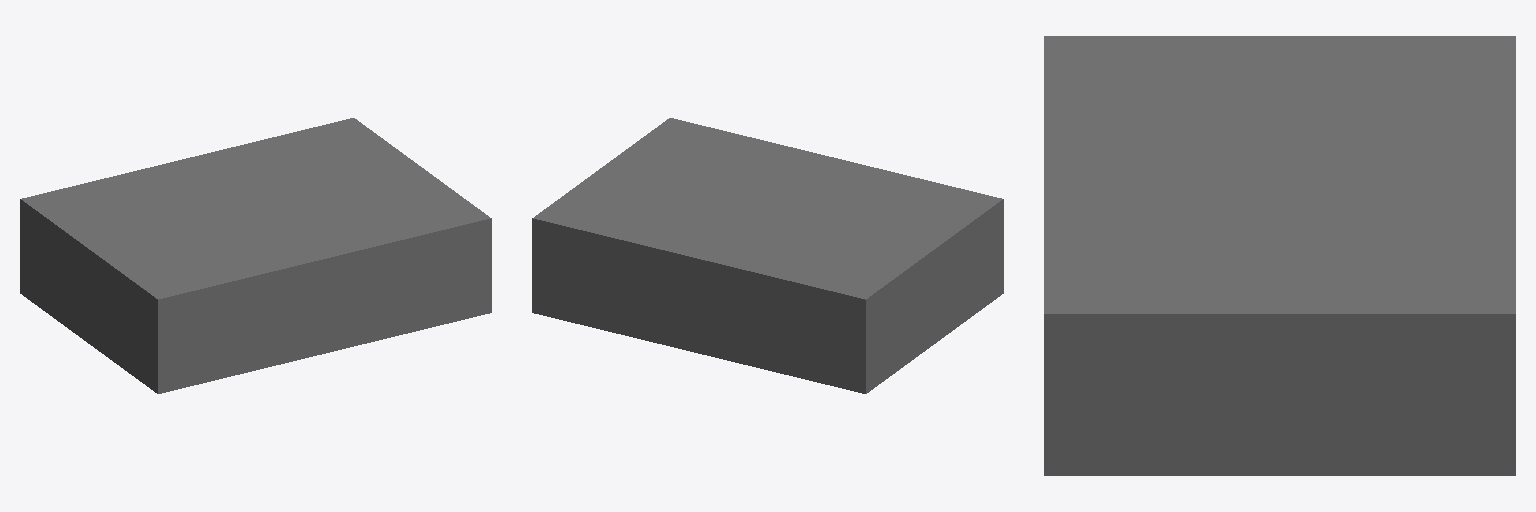
robot.urdf — pandaomron_base:
<?xml version="1.0"?>
<robot name="pandaomron_base" xmlns:xacro="http://www.ros.org/wiki/xacro">

  <!-- Omron 移动底盘 URDF（仅底盘，用于 Nav2 tf 树和 ros2_control） -->

  <link name="odom"/>

  <link name="base_footprint"/>

  <link name="base_link">
    <visual>
      <origin xyz="0 0 0.096" rpy="0 0 0"/>
      <geometry>
        <box size="0.70 0.50 0.19"/>
      </geometry>
      <material name="grey">
        <color rgba="0.5 0.5 0.5 1"/>
      </material>
    </visual>
    <collision>
      <origin xyz="0 0 0.096" rpy="0 0 0"/>
      <geometry>
        <box size="0.70 0.50 0.19"/>
      </geometry>
    </collision>
    <inertial>
      <mass value="60"/>
      <origin xyz="0 0 0.096" rpy="0 0 0"/>
      <inertia ixx="2.0" ixy="0" ixz="0" iyy="2.0" iyz="0" izz="3.0"/>
    </inertial>
  </link>

  <!-- odom → base_footprint（由桥接节点发布） -->
  <joint name="odom_to_base_footprint" type="fixed">
    <parent link="odom"/>
    <child link="base_footprint"/>
    <origin xyz="0 0 0" rpy="0 0 0"/>
  </joint>

  <!-- base_footprint → base_link -->
  <joint name="base_footprint_to_base_link" type="fixed">
    <parent link="base_footprint"/>
    <child link="base_link"/>
    <origin xyz="0 0 0.192" rpy="0 0 0"/>
  </joint>

  <!-- 传感器模型（可选，Nav2 可能需要） -->
  <link name="laser_link">
    <visual>
      <origin xyz="0 0 0" rpy="0 0 0"/>
      <geometry>
        <cylinder radius="0.04" length="0.06"/>
      </geometry>
      <material name="black">
        <color rgba="0.1 0.1 0.1 1"/>
      </material>
    </visual>
  </link>

  <joint name="laser_joint" type="fixed">
    <parent link="base_link"/>
    <child link="laser_link"/>
    <origin xyz="0.25 0 0.15" rpy="0 0 0"/>
  </joint>

</robot>

--- What the picture shows (computed from the rendered views, not written in the file) ---
3 views of the same robot in one strip: view 1: azimuth 30°, elevation 25°; view 2: azimuth 150°, elevation 25°; view 3: azimuth 270°, elevation 25° (orthographic).
Robot: pandaomron_base — 4 links, 3 joints (3 fixed); root link odom; default pose: all joints at 0.
Links seen in each view (by area): view 1: base_link; view 2: base_link; view 3: base_link.
Boxes of the visible links, x1,y1,x2,y2 form: base_link: (20, 118, 491, 393); base_link: (532, 118, 1003, 393); base_link: (1044, 36, 1515, 475).
Size in the robot's own frame: 0.7 by 0.5 by 0.19 metres.
Geometry: primitives only (box / cylinder / sphere), no mesh files.
